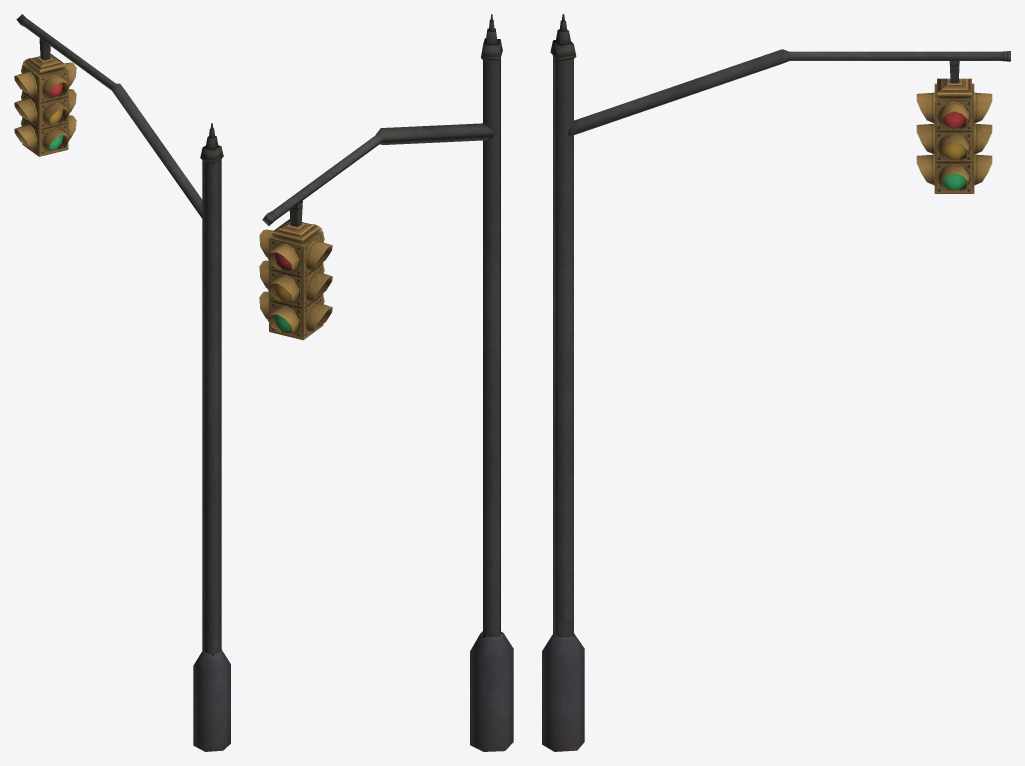
File: Traffic_Light_1.glb
3 renders of one model, left to right at view 1: azimuth 30°, elevation 25°; view 2: azimuth 150°, elevation 25°; view 3: azimuth 270°, elevation 25°, orthographic. The views are drawn at different scales.
Visible parts, largest first — view 1: Traffic_Light_1__LOD3; view 2: Traffic_Light_1__LOD3; view 3: Traffic_Light_1__LOD3.
Boxes of the visible parts, x1,y1,x2,y2 form: Traffic_Light_1__LOD3: [14, 14, 230, 751]; Traffic_Light_1__LOD3: [259, 14, 513, 751]; Traffic_Light_1__LOD3: [542, 14, 1010, 751].
Bounding box in the file's own units: 0.5857 × 6.23 × 3.63.
Materials: 1 (1 with a texture image).
